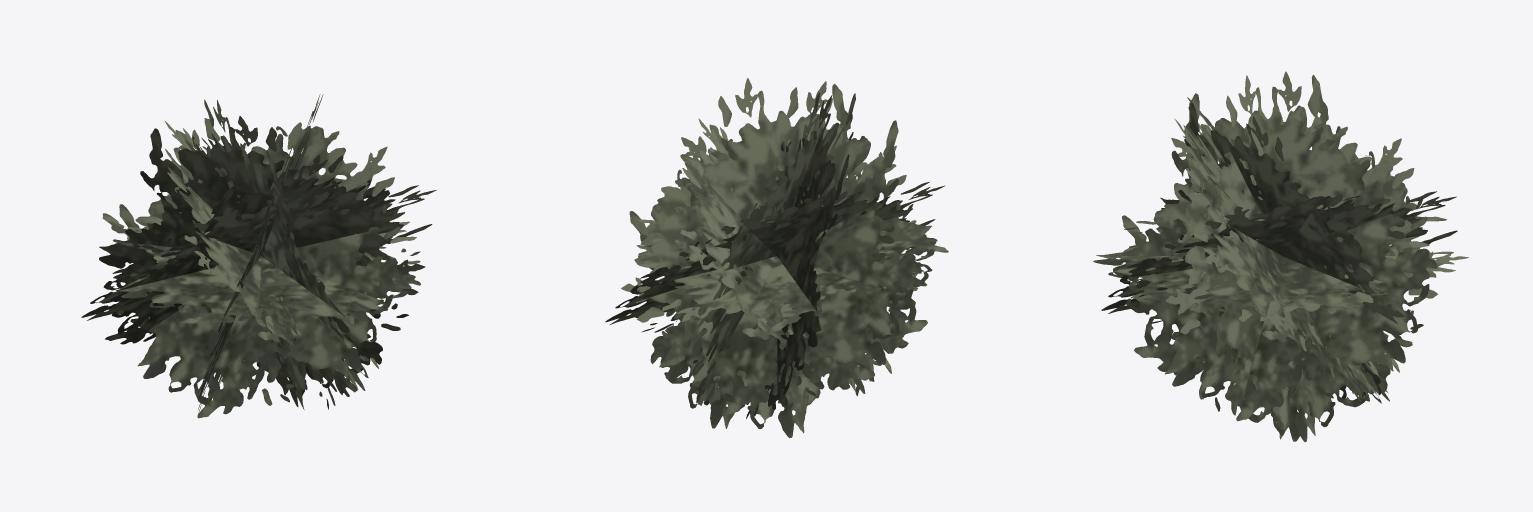
File: bush01.FBX
3 renders of one model, left to right at view 1: azimuth 30°, elevation 25°; view 2: azimuth 150°, elevation 25°; view 3: azimuth 270°, elevation 25°, orthographic. The views are drawn at different scales.
Visible parts, largest first — view 1: bush01; view 2: bush01; view 3: bush01.
Part boxes in pixels (box(x1,y1,x2,y2)): bush01: box(81, 94, 436, 418); bush01: box(605, 78, 948, 438); bush01: box(1093, 71, 1468, 441).
Size of the model in its own units: 0.8745 by 0.6707 by 0.8166.
